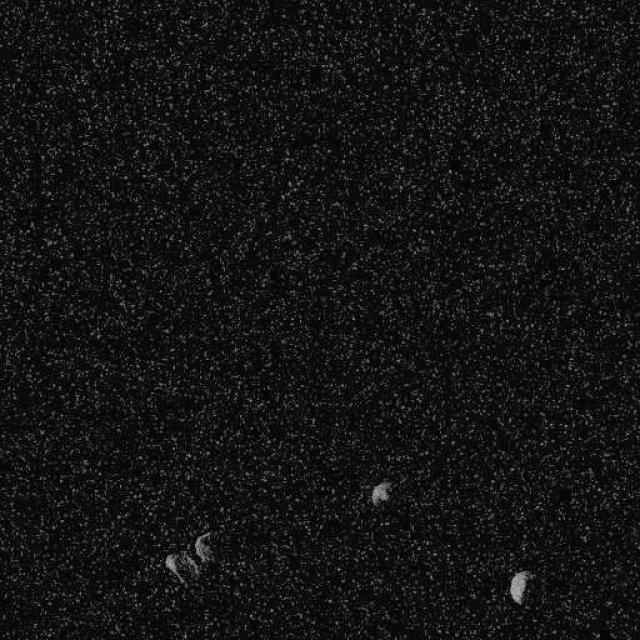D2: (162, 529, 216, 585), (508, 569, 532, 605), (370, 480, 392, 505)
